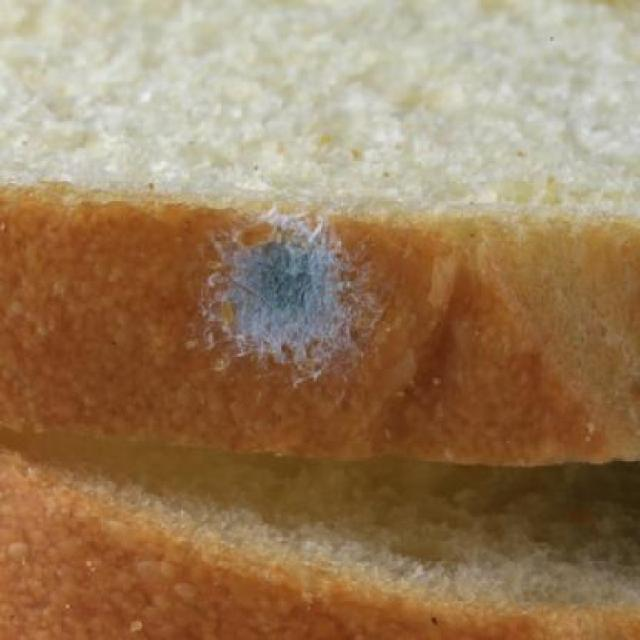mold_bread: (196, 196, 383, 386)
